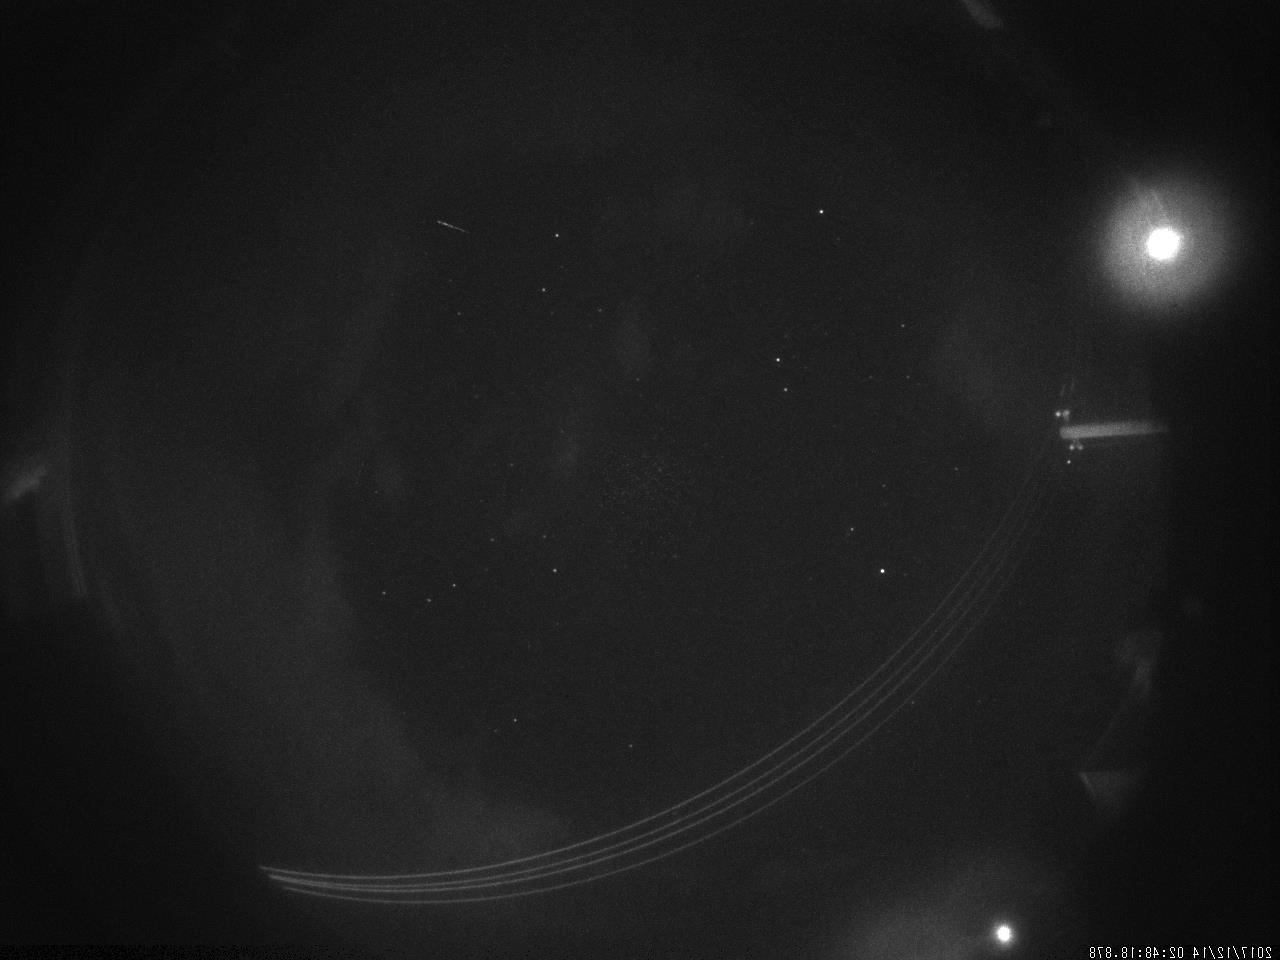meteor: (378, 208, 495, 244)
